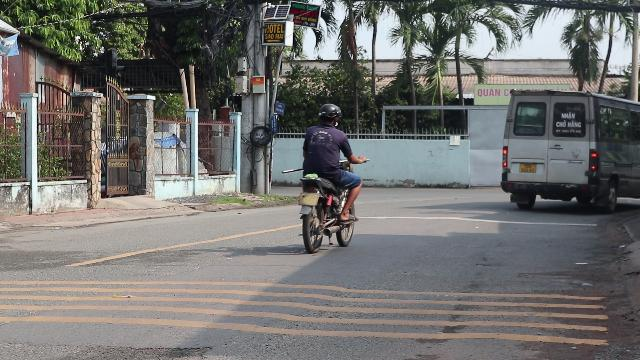helmet: (317, 102, 341, 126)
licenseplate: (300, 193, 318, 205)
motorcyclist: (294, 102, 364, 252)
